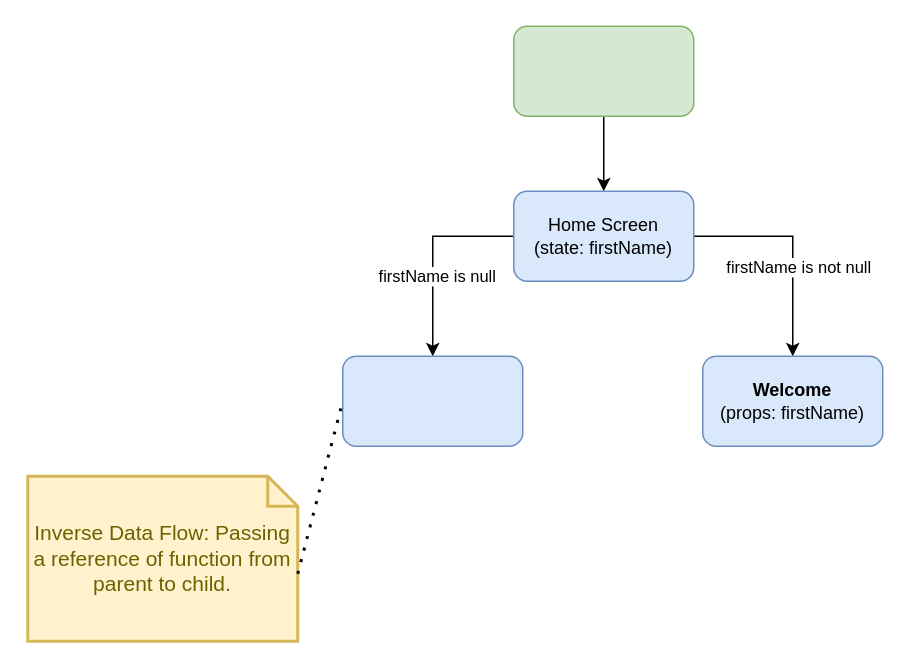
Image size: 909x669. Some labels were removed from this diagram. Here are the shapes that lost their labels. From the top down, the centre of each, then its label:
At pixel 603 70: "App.js".
At pixel 432 400: "Intro (fn: handleChange, handleSubmit)".
